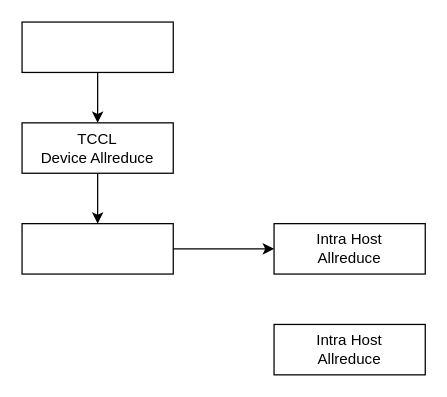
This 447x397 diagram has some shape labels left out. The shapes that lost their labels are listed below. From the top down, each one's box as (x1, y1, x2, y2) in pixels, then its label:
(21, 21, 173, 72): TCCL Card Barrier
(21, 222, 173, 274): SdaaLaunchHost Create Task
